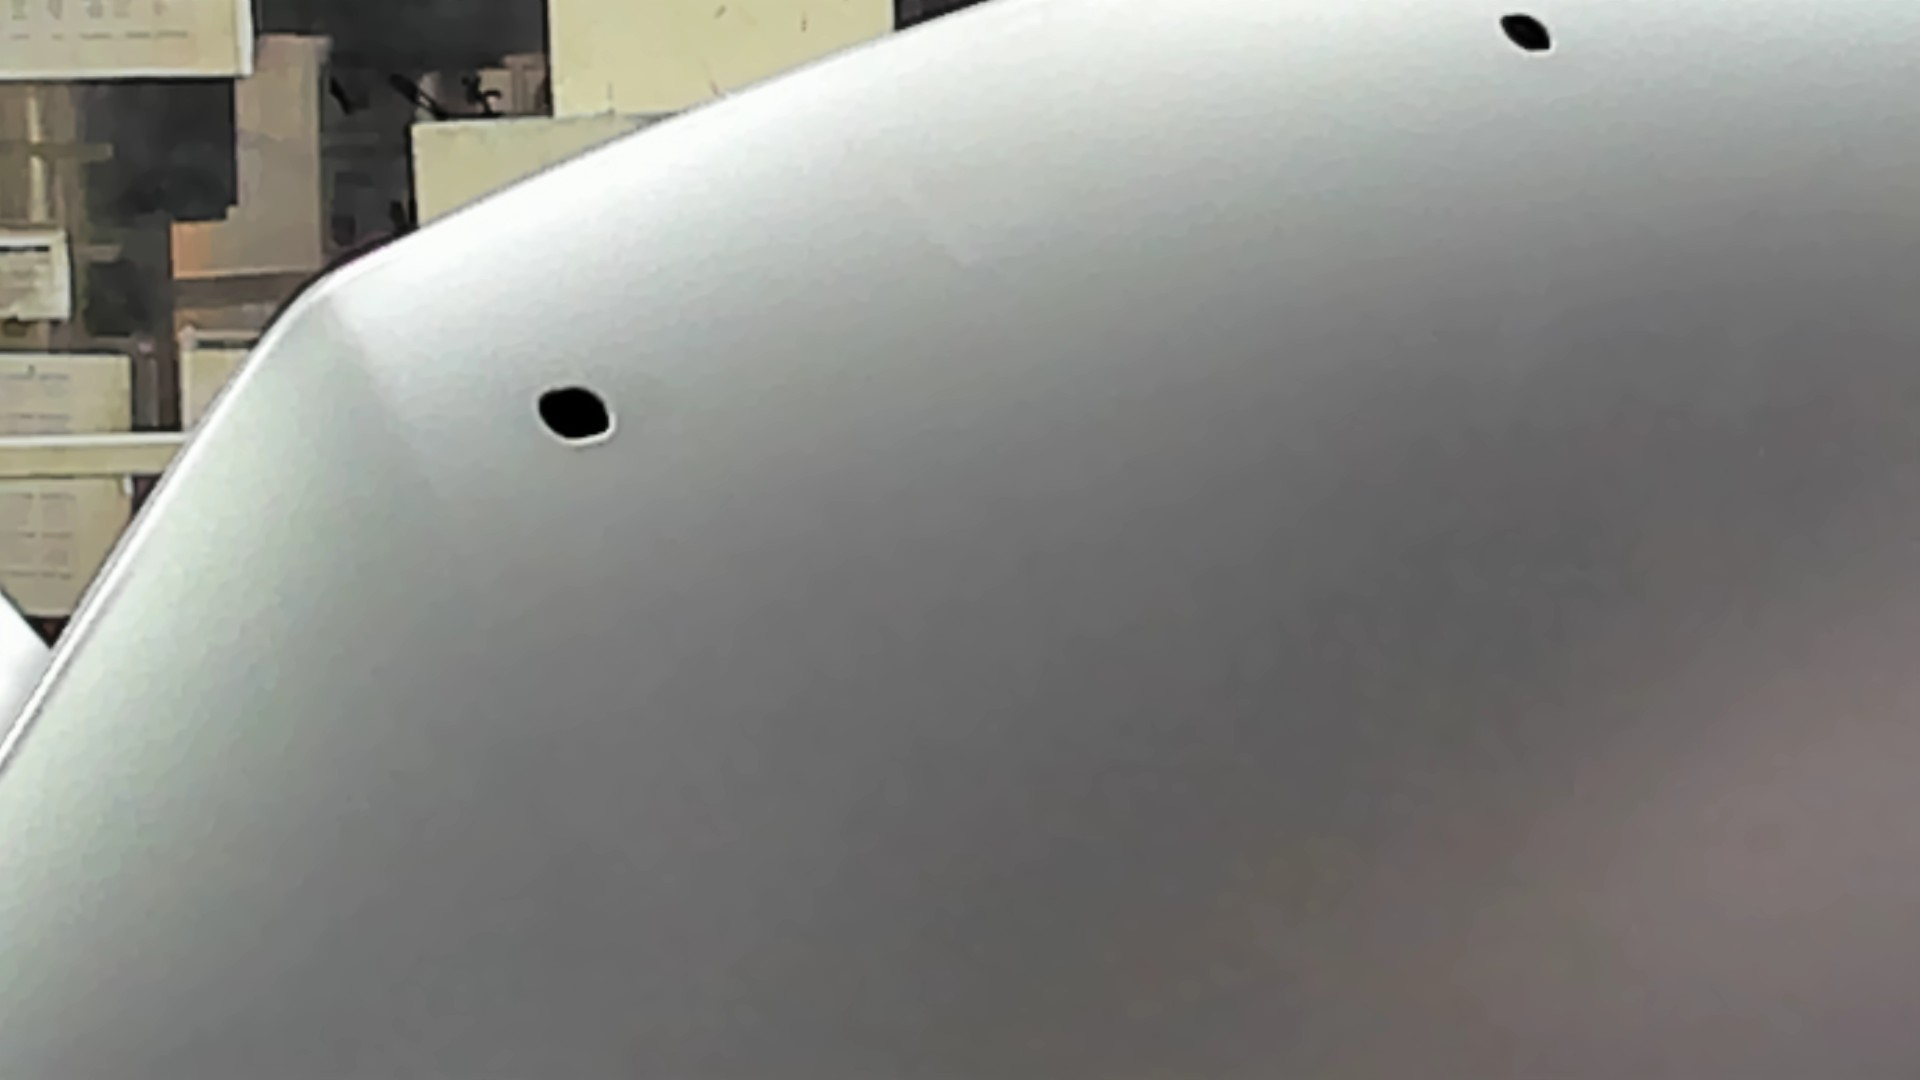amorfo: (529, 377, 617, 450), (1493, 11, 1560, 61)
capo: (702, 146, 1920, 1080)
